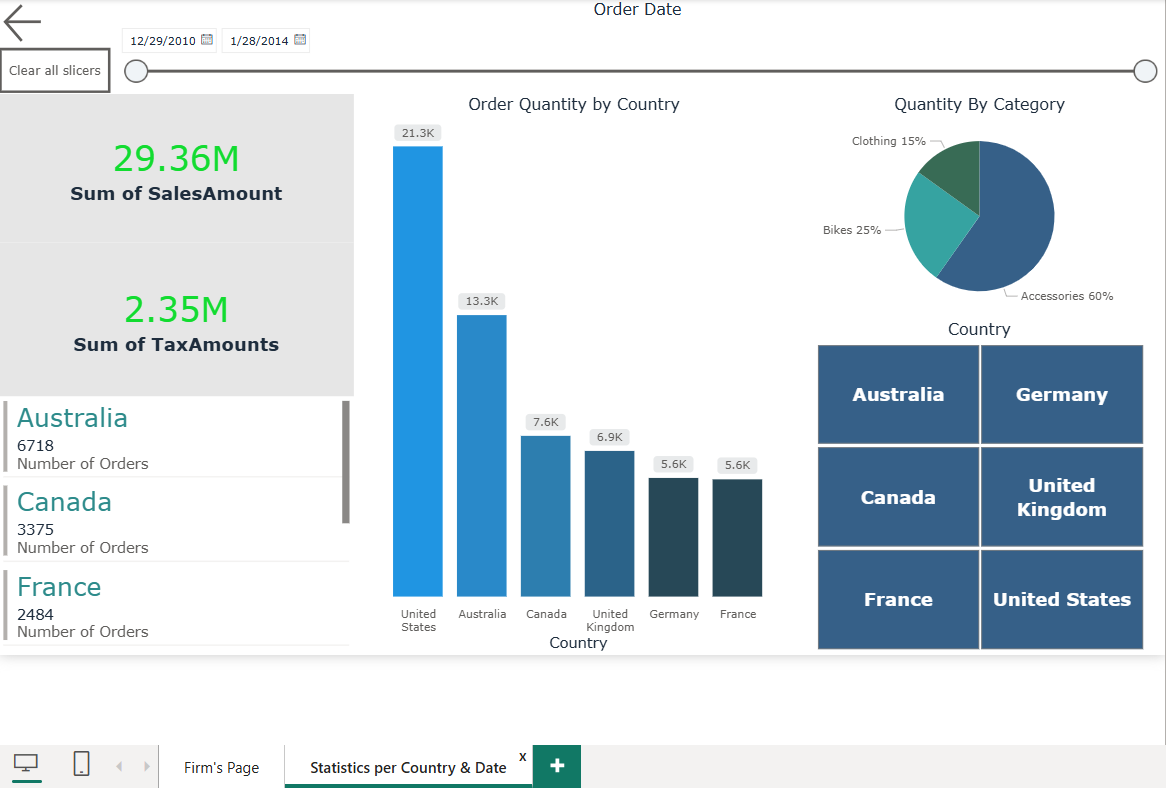

What the dashboard file says about the page in this screenshot:
{"tool":"powerbi","page":{"name":"Statistics per Country & Date","canvas":[1280,720],"ordinal":1},"visuals":[{"type":"card","fields":{"Values":["Sum(Query11.SalesAmount)"]},"box":[0,104.3,389.7,163.3],"z":0},{"type":"card","fields":{"Values":["Sum(Query11.TaxAmt)"]},"box":[0,267.6,389.7,168.8],"z":1000},{"type":"multiRowCard","fields":{"Values":["Query11.Country","Query11.SalesOrderNumber"]},"box":[0,436.4,389.7,284],"z":2000},{"type":"columnChart","title":"Order Quantity by Country","fields":{"Category":["Query11.Country"],"Y":["Sum(Query11.OrderQuantity)"]},"box":[389.7,104.3,483,616.1],"z":3000},{"type":"pieChart","title":"Quantity By Category","fields":{"Category":["Query11.ProductCategory"],"Y":["Sum(Query11.OrderQuantity)"]},"box":[872.7,104.3,407.5,247],"z":4000},{"type":"slicer","title":"Order Date","fields":{"Values":["Query11.OrderDate"]},"box":[122.6,0,1157.4,104.1],"z":5000},{"type":"slicer","title":"Country","fields":{"Values":["Query11.Country"]},"box":[873,351,407,369],"z":6000},{"type":"actionButton","box":[0,0,96.9,52.7],"z":7000},{"type":"actionButton","box":[0,54.2,122.6,49.9],"z":8000}]}

Visuals, with their boxes on the page's 1280x720 design canvas (x1, y1, x2, y2). These are canvas units, not pixel positions in the 1166x788 screenshot, which may show the page scaled, cropped or inside an application window:
card - Sum(Query11.SalesAmount): bbox(0, 104, 390, 268)
card - Sum(Query11.TaxAmt): bbox(0, 268, 390, 436)
multiRowCard - Query11.Country x Query11.SalesOrderNumber: bbox(0, 436, 390, 720)
"Order Quantity by Country" columnChart: bbox(390, 104, 873, 720)
"Quantity By Category" pieChart: bbox(873, 104, 1280, 351)
"Order Date" slicer: bbox(123, 0, 1280, 104)
"Country" slicer: bbox(873, 351, 1280, 720)
actionButton: bbox(0, 0, 97, 53)
actionButton: bbox(0, 54, 123, 104)
